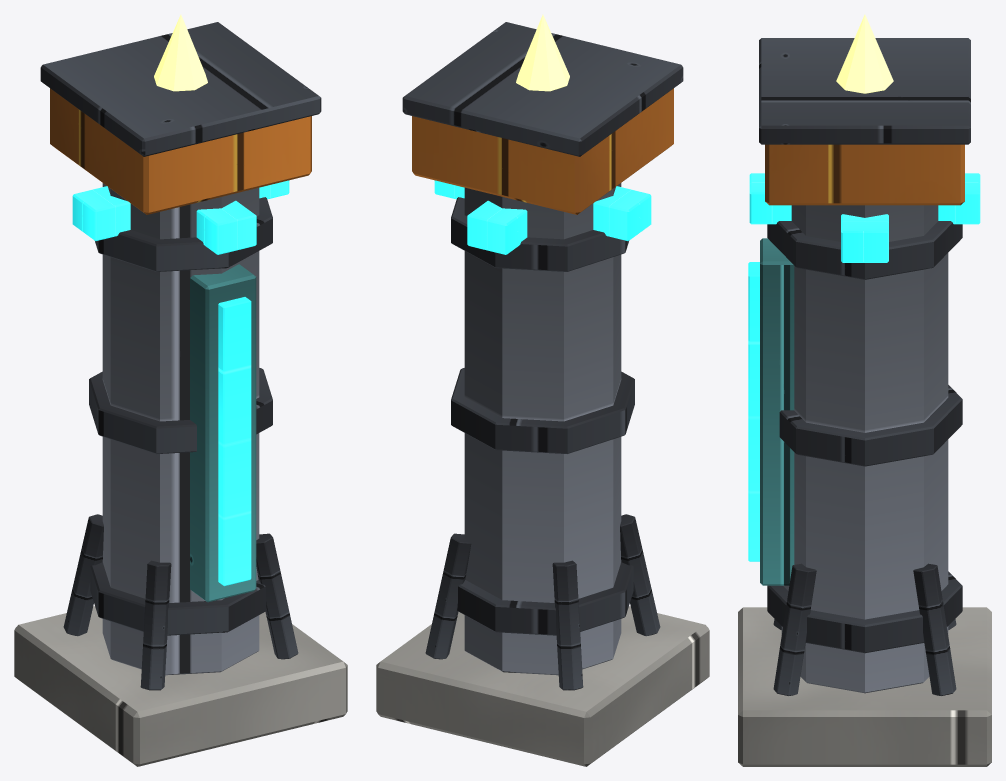
Rendered from BLD_EnergyWall_Node_A_v1.fbx.
3 views of the same model, side by side, from view 1: azimuth 30°, elevation 25°; view 2: azimuth 150°, elevation 25°; view 3: azimuth 270°, elevation 25° (orthographic). The views are drawn at different scales.
Visible parts, largest first — view 1: GEO_EnergyWall_Node_A; view 2: GEO_EnergyWall_Node_A; view 3: GEO_EnergyWall_Node_A.
Boxes of the visible parts, box(x1,y1,x2,y2) form: GEO_EnergyWall_Node_A: box(14, 14, 347, 766); GEO_EnergyWall_Node_A: box(376, 14, 709, 766); GEO_EnergyWall_Node_A: box(738, 14, 991, 766).
Bounding box in the file's own units: 122 × 372 × 122.
